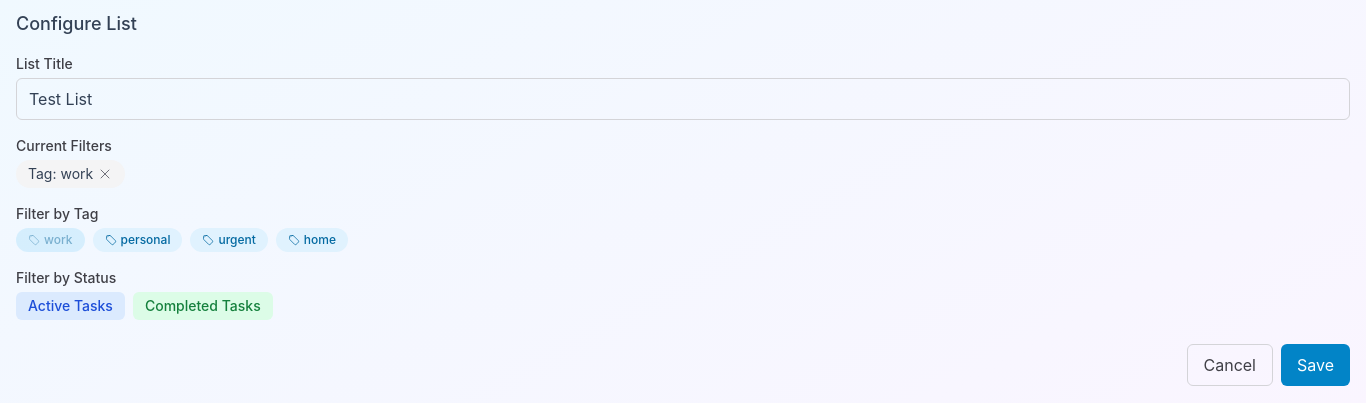
Scenario: TaskListConfig Component › adds a tag filter when tag button is clicked
The width and height of the screenshot is (1366, 403).
Note: Click on a tag filter button
Step 1. Click the button with test id "tag-filter-personal" → [137, 240], box [92,228,182,252]
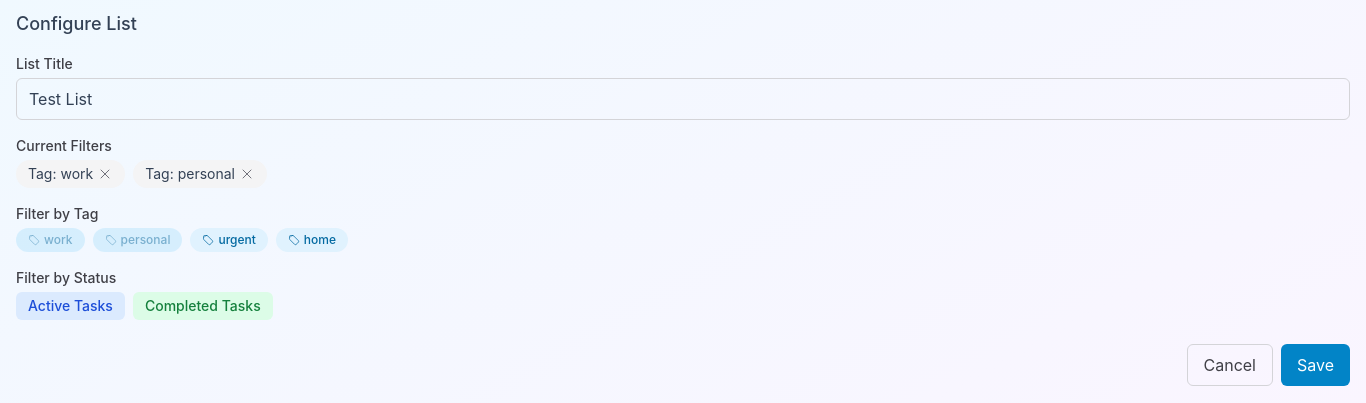
Check: the text "Tag: personal" is shown, box [145,164,235,184]
